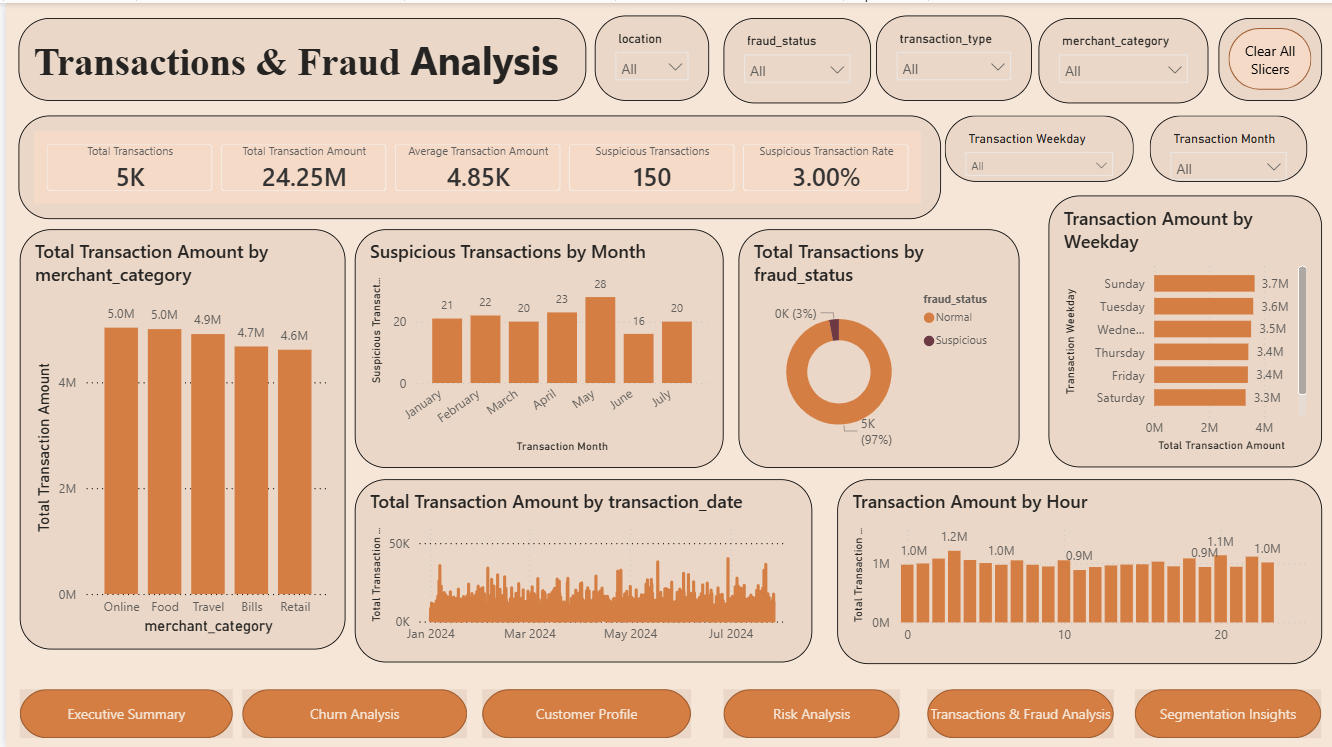

Layout of this report page (visuals, bound fields, positions):
{"tool":"powerbi","page":{"name":"Transactions & Fraud","canvas":[1280,720],"ordinal":4},"visuals":[{"type":"textbox","box":[12,14,548,80],"z":0},{"type":"cardVisual","fields":{"Data":["customers.Total Transactions","customers.Total Transaction Amount","customers.Average Transaction Amount","customers.Suspicious Transactions","customers.Suspicious Transaction Rate"]},"box":[12,108,890,100],"z":1000},{"type":"lineChart","fields":{"Y":["customers.Total Transaction Amount"],"Category":["transactions.transaction_date.Variation.Date Hierarchy.Year"]},"box":[337.1,460,441.4,177.1],"z":2000},{"type":"donutChart","fields":{"Category":["transactions.fraud_status"],"Y":["customers.Total Transactions"]},"box":[707.1,218.6,271.4,230],"z":3000},{"type":"columnChart","fields":{"Category":["transactions.merchant_category"],"Y":["customers.Total Transaction Amount"]},"box":[12.9,218.6,314.3,405.7],"z":4000},{"type":"slicer","fields":{"Values":["transactions.transaction_type"]},"box":[840,12,150,82],"z":5000},{"type":"slicer","fields":{"Values":["transactions.fraud_status"]},"box":[692,14,142,82],"z":6000},{"type":"slicer","fields":{"Values":["transactions.location"]},"box":[568,12,110,82],"z":7000},{"type":"slicer","fields":{"Values":["transactions.merchant_category"]},"box":[996,14,164,82],"z":8000},{"type":"shape","box":[12.9,662.9,205.7,47.1],"z":9000},{"type":"shape","box":[228.6,662.9,217.1,47.1],"z":10000},{"type":"shape","box":[460,662.9,201.4,47.1],"z":11000},{"type":"shape","box":[692.9,662.9,170,47.1],"z":12000},{"type":"shape","box":[888.6,662.9,180,47.1],"z":13000},{"type":"shape","box":[1090,662.9,180,47.1],"z":14000},{"type":"clusteredColumnChart","title":"Suspicious Transactions by Month","fields":{"Category":["transactions.Transaction Month"],"Y":["customers.Suspicious Transactions"]},"box":[337.1,218.6,355.7,230],"z":15000},{"type":"clusteredColumnChart","title":"Transaction Amount by Hour","fields":{"Category":["transactions.Transaction Hour"],"Y":["customers.Total Transaction Amount"]},"box":[802,460,468,178],"z":16000},{"type":"clusteredBarChart","title":"Transaction Amount by Weekday","fields":{"Category":["transactions.Transaction Weekday"],"Y":["customers.Total Transaction Amount"]},"box":[1006,186,264,262],"z":17000},{"type":"slicer","fields":{"Values":["transactions.Transaction Month"]},"box":[1104,108,152,64],"z":18000},{"type":"slicer","fields":{"Values":["transactions.Transaction Weekday"]},"box":[906,108.6,182.2,63.9],"z":19000},{"type":"shape","box":[1170.2,14.5,100.1,79.6],"z":19001}]}

Visuals, with their boxes in screenshot pixels (x1, y1, x2, y2), scaled from the page's 1280x720 canvas onto the 1332x747 screenshot:
textbox: Rect(12, 15, 583, 98)
cardVisual - customers.Total Transactions x customers.Total Transaction Amount: Rect(12, 112, 939, 216)
lineChart - customers.Total Transaction Amount x transactions.transaction_date.Variation.Date Hierarchy.Year: Rect(351, 477, 810, 661)
donutChart - transactions.fraud_status x customers.Total Transactions: Rect(736, 227, 1018, 465)
columnChart - transactions.merchant_category x customers.Total Transaction Amount: Rect(13, 227, 340, 648)
slicer - transactions.transaction_type: Rect(874, 12, 1030, 98)
slicer - transactions.fraud_status: Rect(720, 15, 868, 100)
slicer - transactions.location: Rect(591, 12, 706, 98)
slicer - transactions.merchant_category: Rect(1036, 15, 1207, 100)
shape: Rect(13, 688, 227, 737)
shape: Rect(238, 688, 464, 737)
shape: Rect(479, 688, 688, 737)
shape: Rect(721, 688, 898, 737)
shape: Rect(925, 688, 1112, 737)
shape: Rect(1134, 688, 1322, 737)
"Suspicious Transactions by Month" clusteredColumnChart: Rect(351, 227, 721, 465)
"Transaction Amount by Hour" clusteredColumnChart: Rect(835, 477, 1322, 662)
"Transaction Amount by Weekday" clusteredBarChart: Rect(1047, 193, 1322, 465)
slicer - transactions.Transaction Month: Rect(1149, 112, 1307, 178)
slicer - transactions.Transaction Weekday: Rect(943, 113, 1132, 179)
shape: Rect(1218, 15, 1322, 98)
